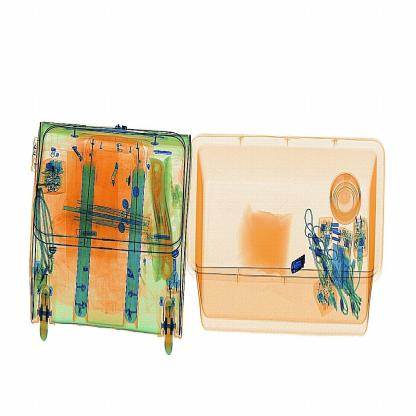knife: (290, 250, 310, 276)
